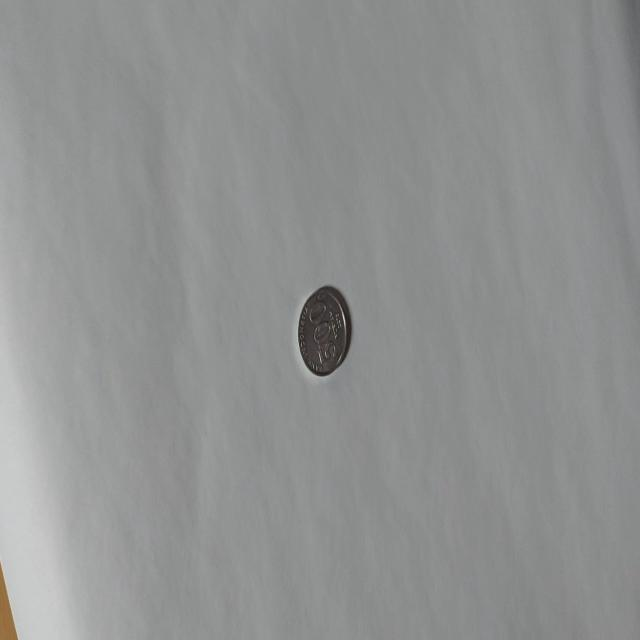lima ratus rupiah: (296, 283, 349, 377)
